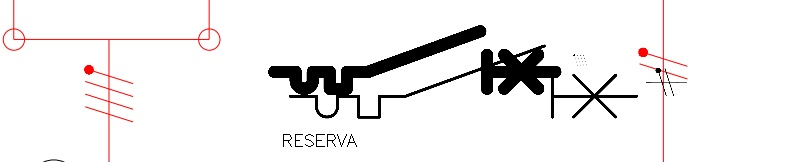interruptor_termomagnetico: (281, 37, 645, 126), (267, 24, 563, 96)
